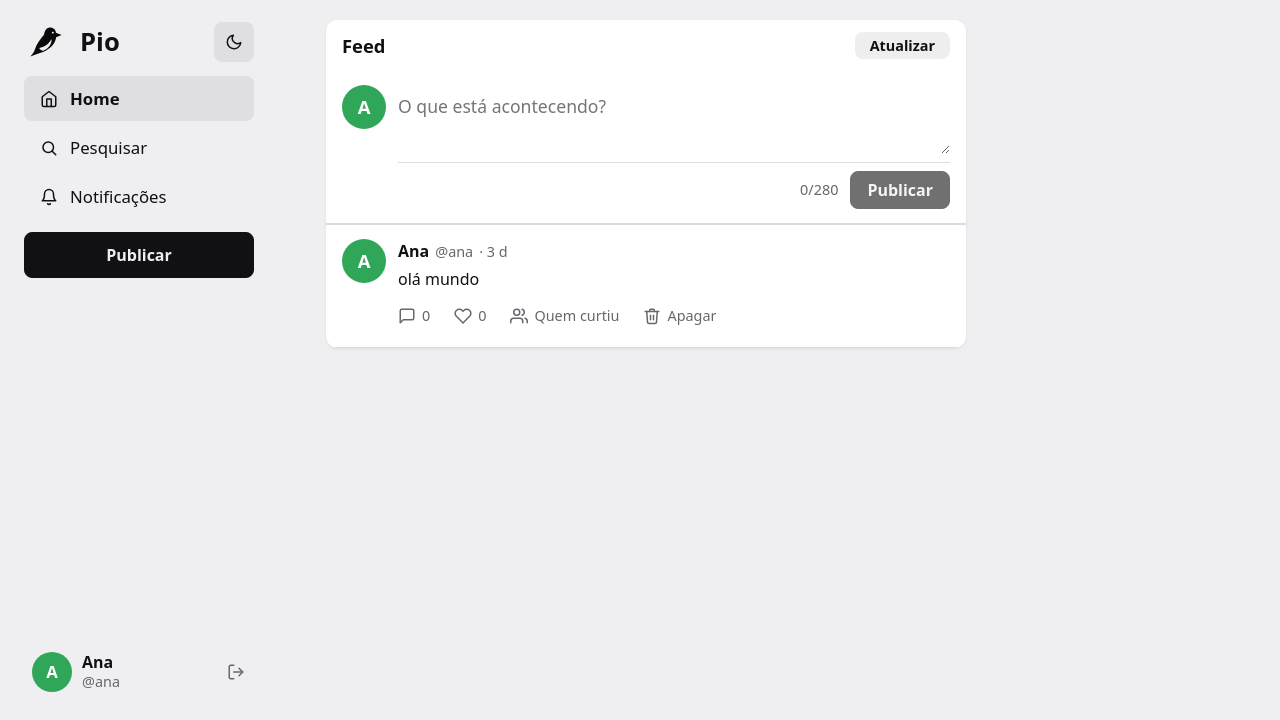
Scenario: feed › mostra o código do erro quando o back recusa a ação (FORBIDDEN)
The width and height of the screenshot is (1280, 720).
Click the button "Apagar". click: (680, 316)
box: top-left (634, 299), bottom-right (726, 333)
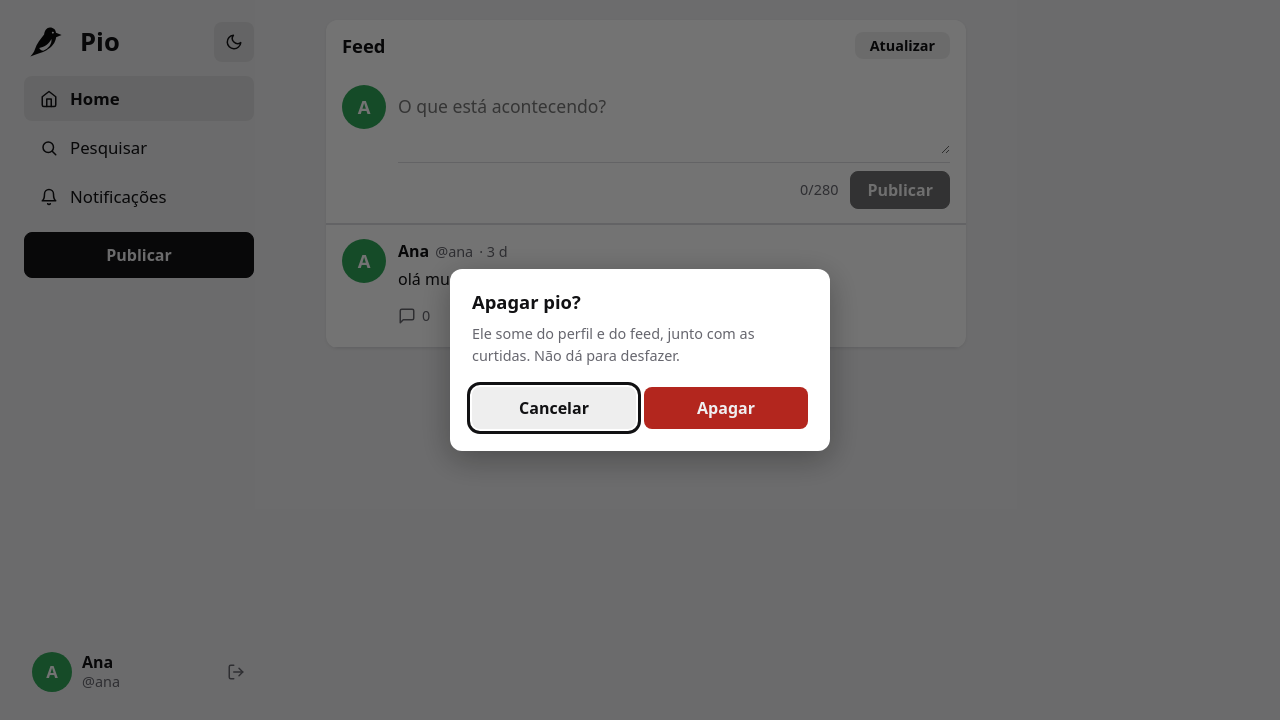
Click the button "Apagar". click: (726, 408)
box: top-left (644, 387), bottom-right (808, 429)
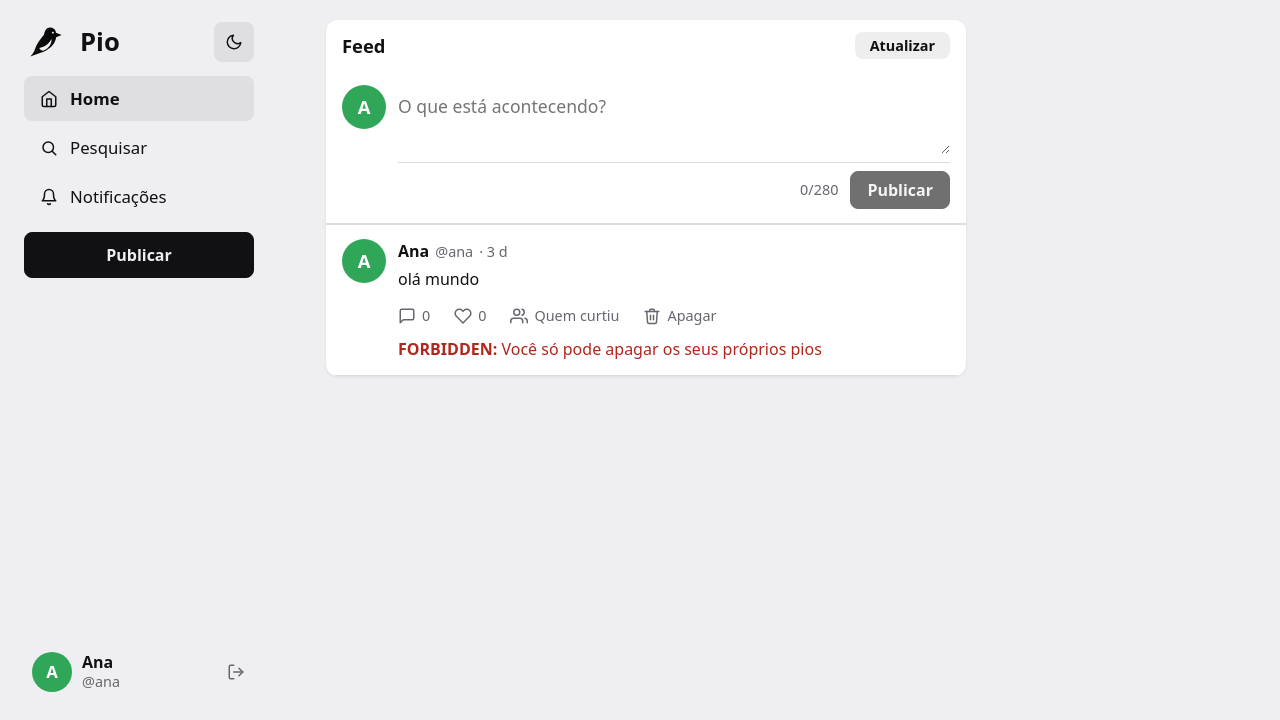
Check: the message reads "FORBIDDEN: Você só pode apagar os seus próprios pios", box top-left (398, 338), bottom-right (822, 360)
